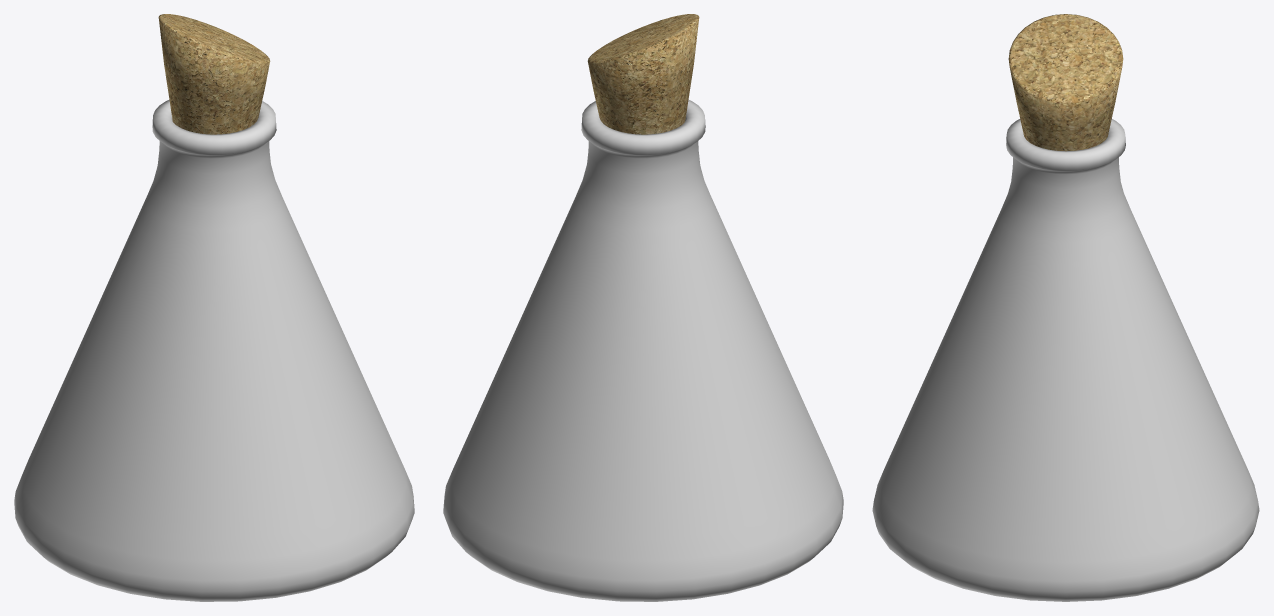
File: flask.glb
3 views of the same model, side by side, from view 1: azimuth 30°, elevation 25°; view 2: azimuth 150°, elevation 25°; view 3: azimuth 270°, elevation 25° (orthographic). The views are drawn at different scales.
Parts seen in each view (by area): view 1: EFlask, EFlask_Cork; view 2: EFlask, EFlask_Cork; view 3: EFlask, EFlask_Cork.
Part boxes in pixels (bbox=[...]): EFlask: bbox=[14, 100, 414, 601]; EFlask_Cork: bbox=[158, 14, 270, 134]; EFlask: bbox=[443, 100, 843, 601]; EFlask_Cork: bbox=[587, 14, 699, 134]; EFlask: bbox=[872, 119, 1259, 601]; EFlask_Cork: bbox=[1008, 14, 1123, 151].
Bounding box in the file's own units: 0.6185 × 0.8625 × 0.6185.
3 materials, 1 textured.
